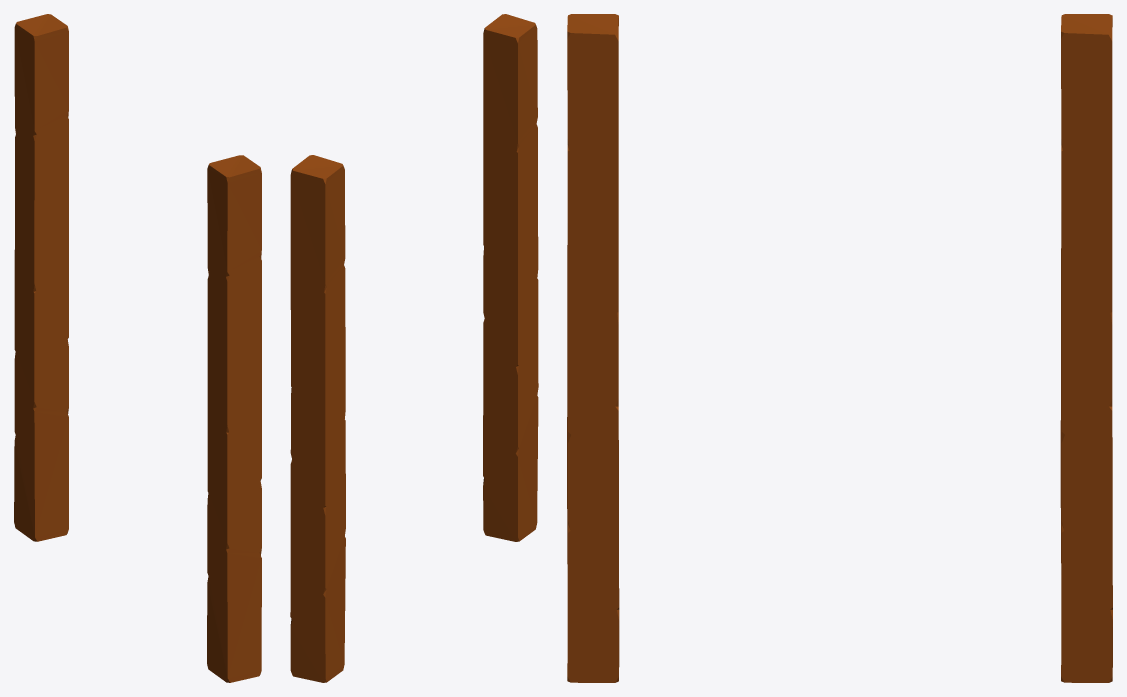
Rendered from WoodPillarDoubleLong.fbx.
3 views of the same model, side by side, from view 1: azimuth 30°, elevation 25°; view 2: azimuth 150°, elevation 25°; view 3: azimuth 270°, elevation 25° (orthographic). The views are drawn at different scales.
Parts seen in each view (by area): view 1: WoodPillarDoubleLong; view 2: WoodPillarDoubleLong; view 3: WoodPillarDoubleLong.
Boxes of the visible parts, x1,y1,x2,y2 form: WoodPillarDoubleLong: (14,14,261,682); WoodPillarDoubleLong: (290,14,538,682); WoodPillarDoubleLong: (567,14,1112,682).
Size of the model in its own units: 204 by 2810 by 2140.
